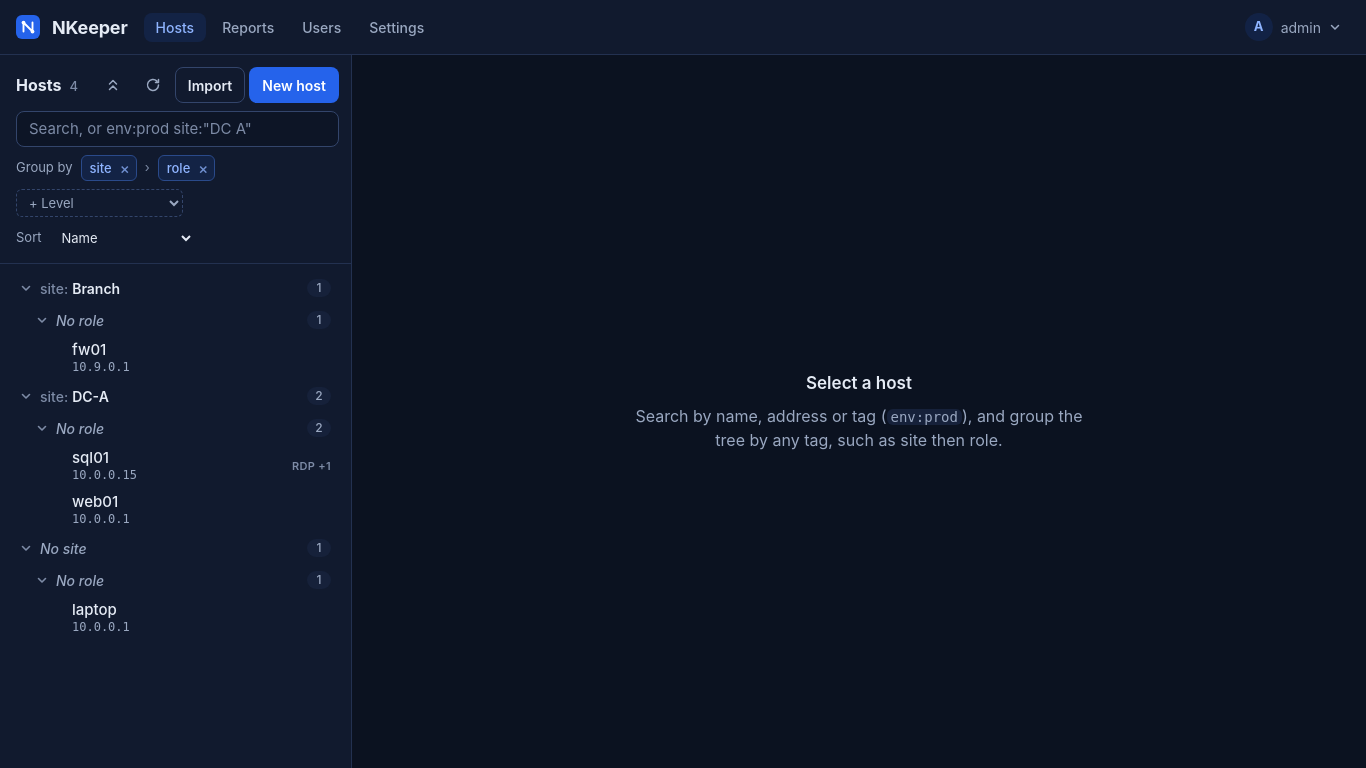
workspace › collapses and expands every group at once, nested ones included
Check: the button "site:DC-A 2" is shown, box x1=8 y1=380 x2=343 y2=412
Click the button named "Collapse all groups" at [113, 85], box x1=95 y1=67 x2=131 y2=103
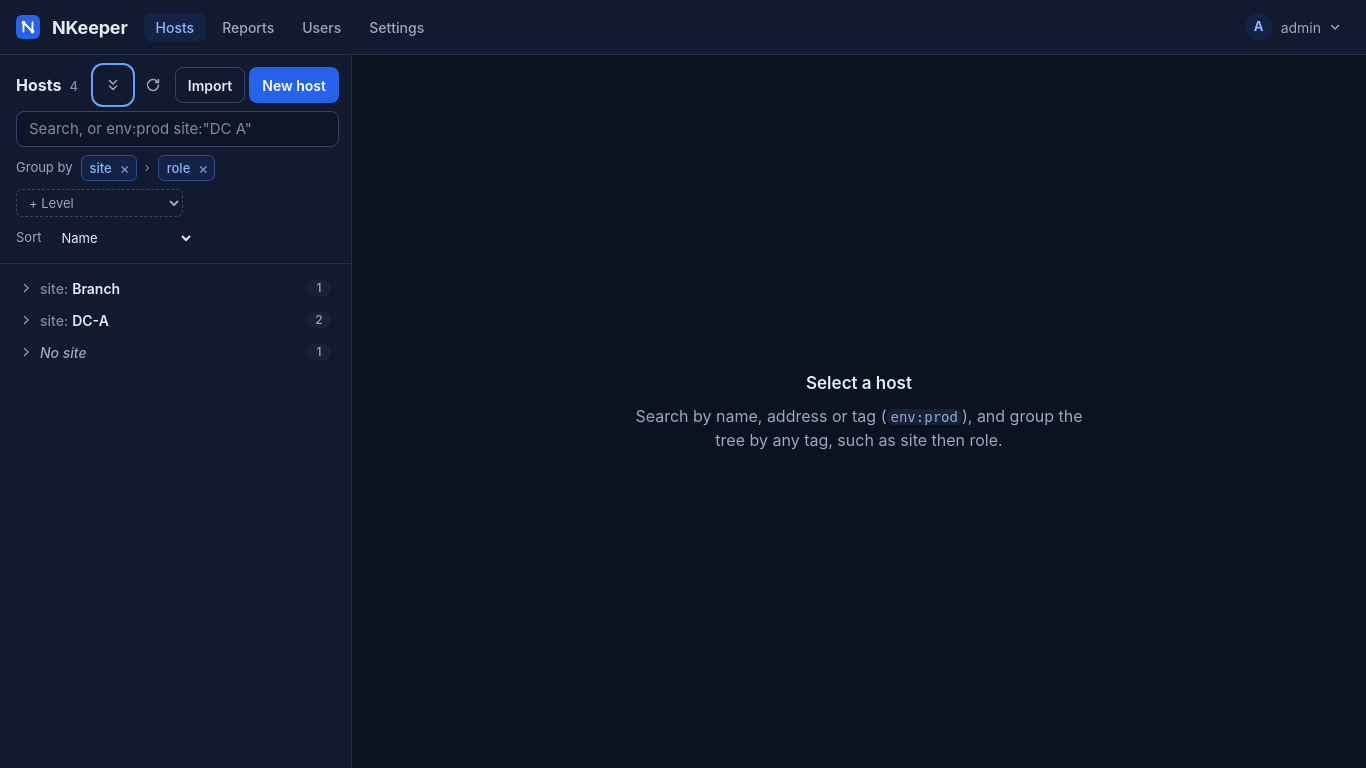
Opening a site shows its role groups, still collapsed (these hosts have no role tag).
Click the button "site:DC-A 2" at [90, 320], box x1=8 y1=304 x2=343 y2=336
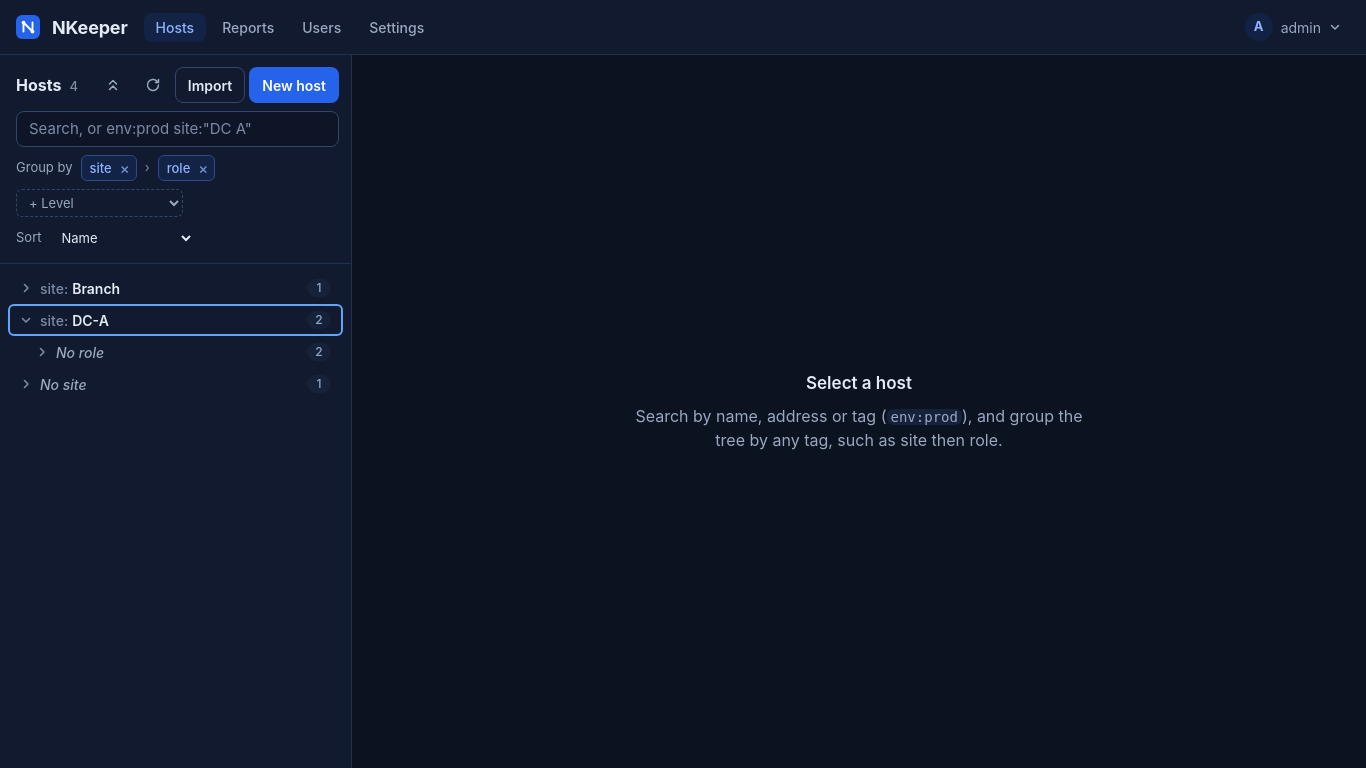
Check: the button "No role 2" is collapsed, box x1=8 y1=336 x2=343 y2=368
Click the button named "Collapse all groups" at [113, 85], box x1=95 y1=67 x2=131 y2=103
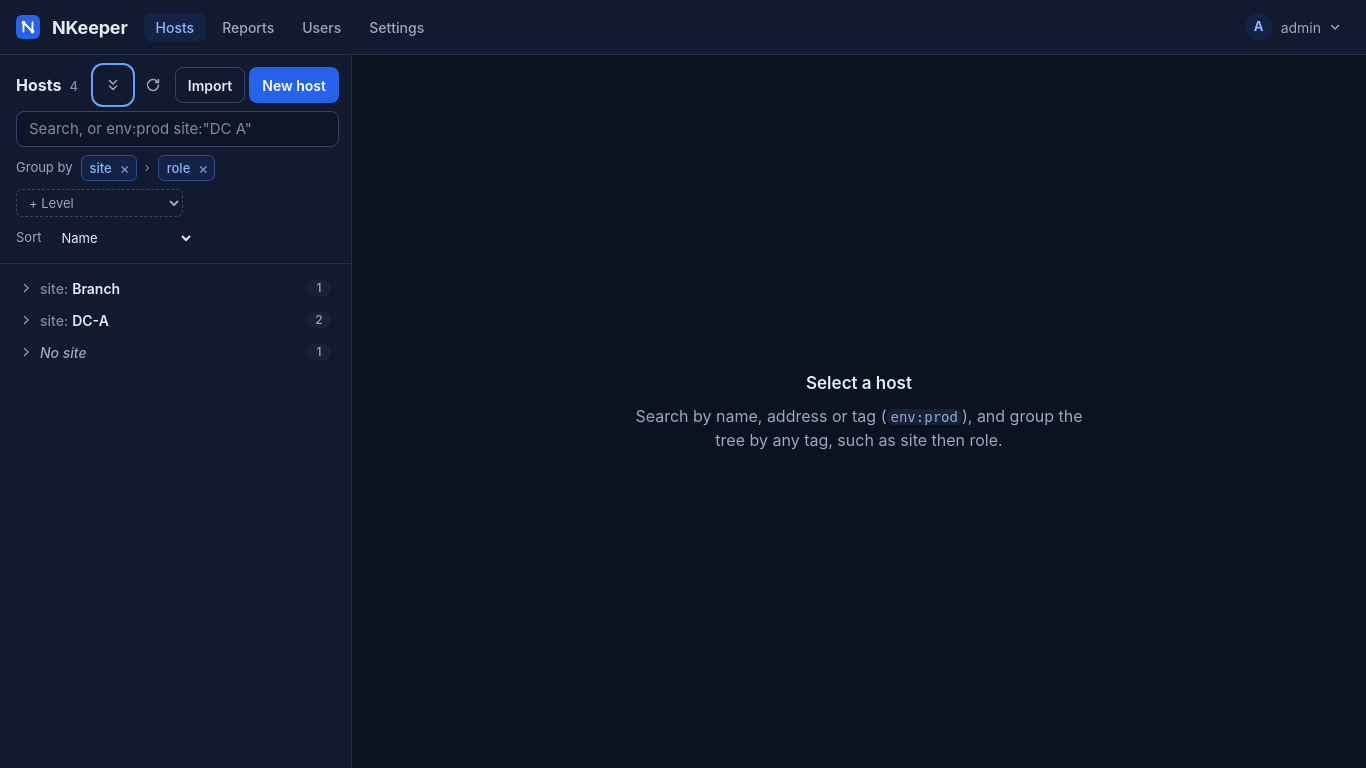
Click the button named "Expand all groups" at [113, 85], box x1=95 y1=67 x2=131 y2=103
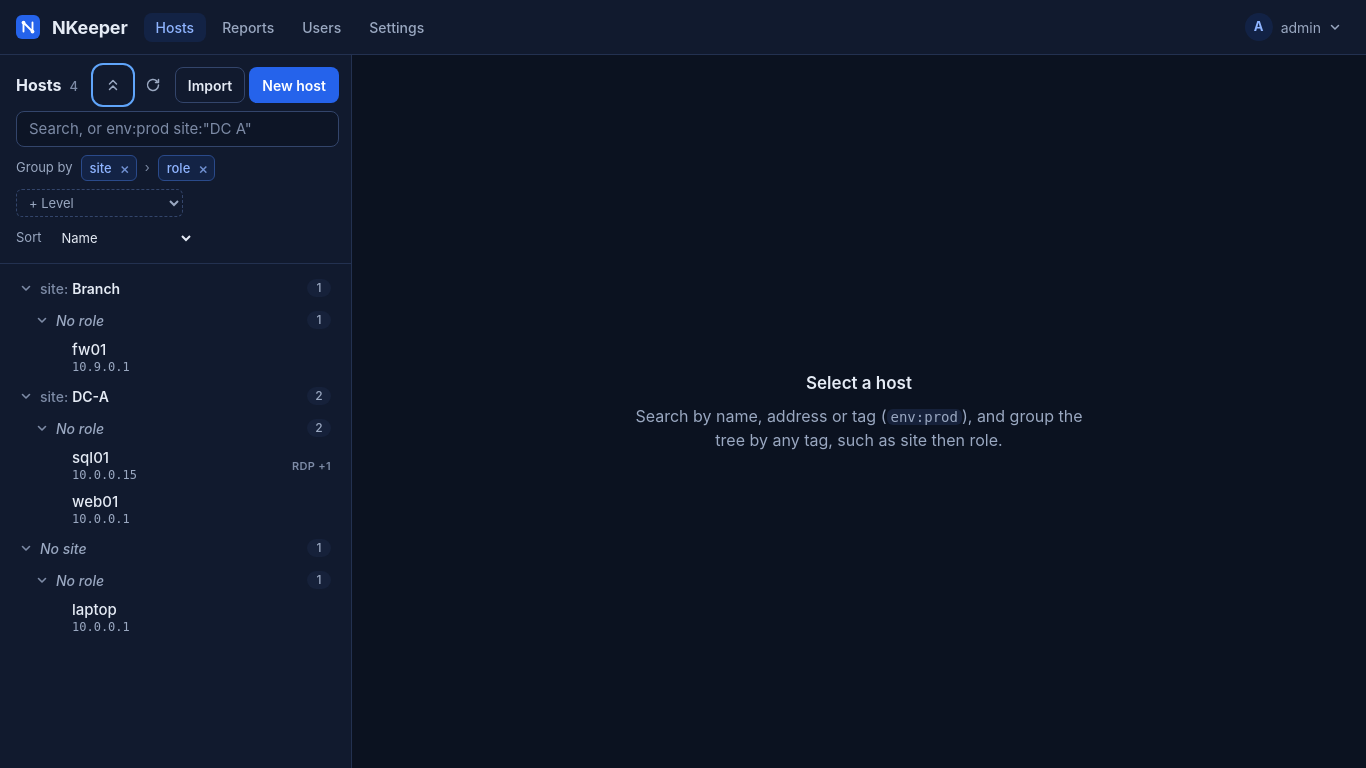
Check: the text "sql01" is shown, box x1=72 y1=448 x2=109 y2=468
